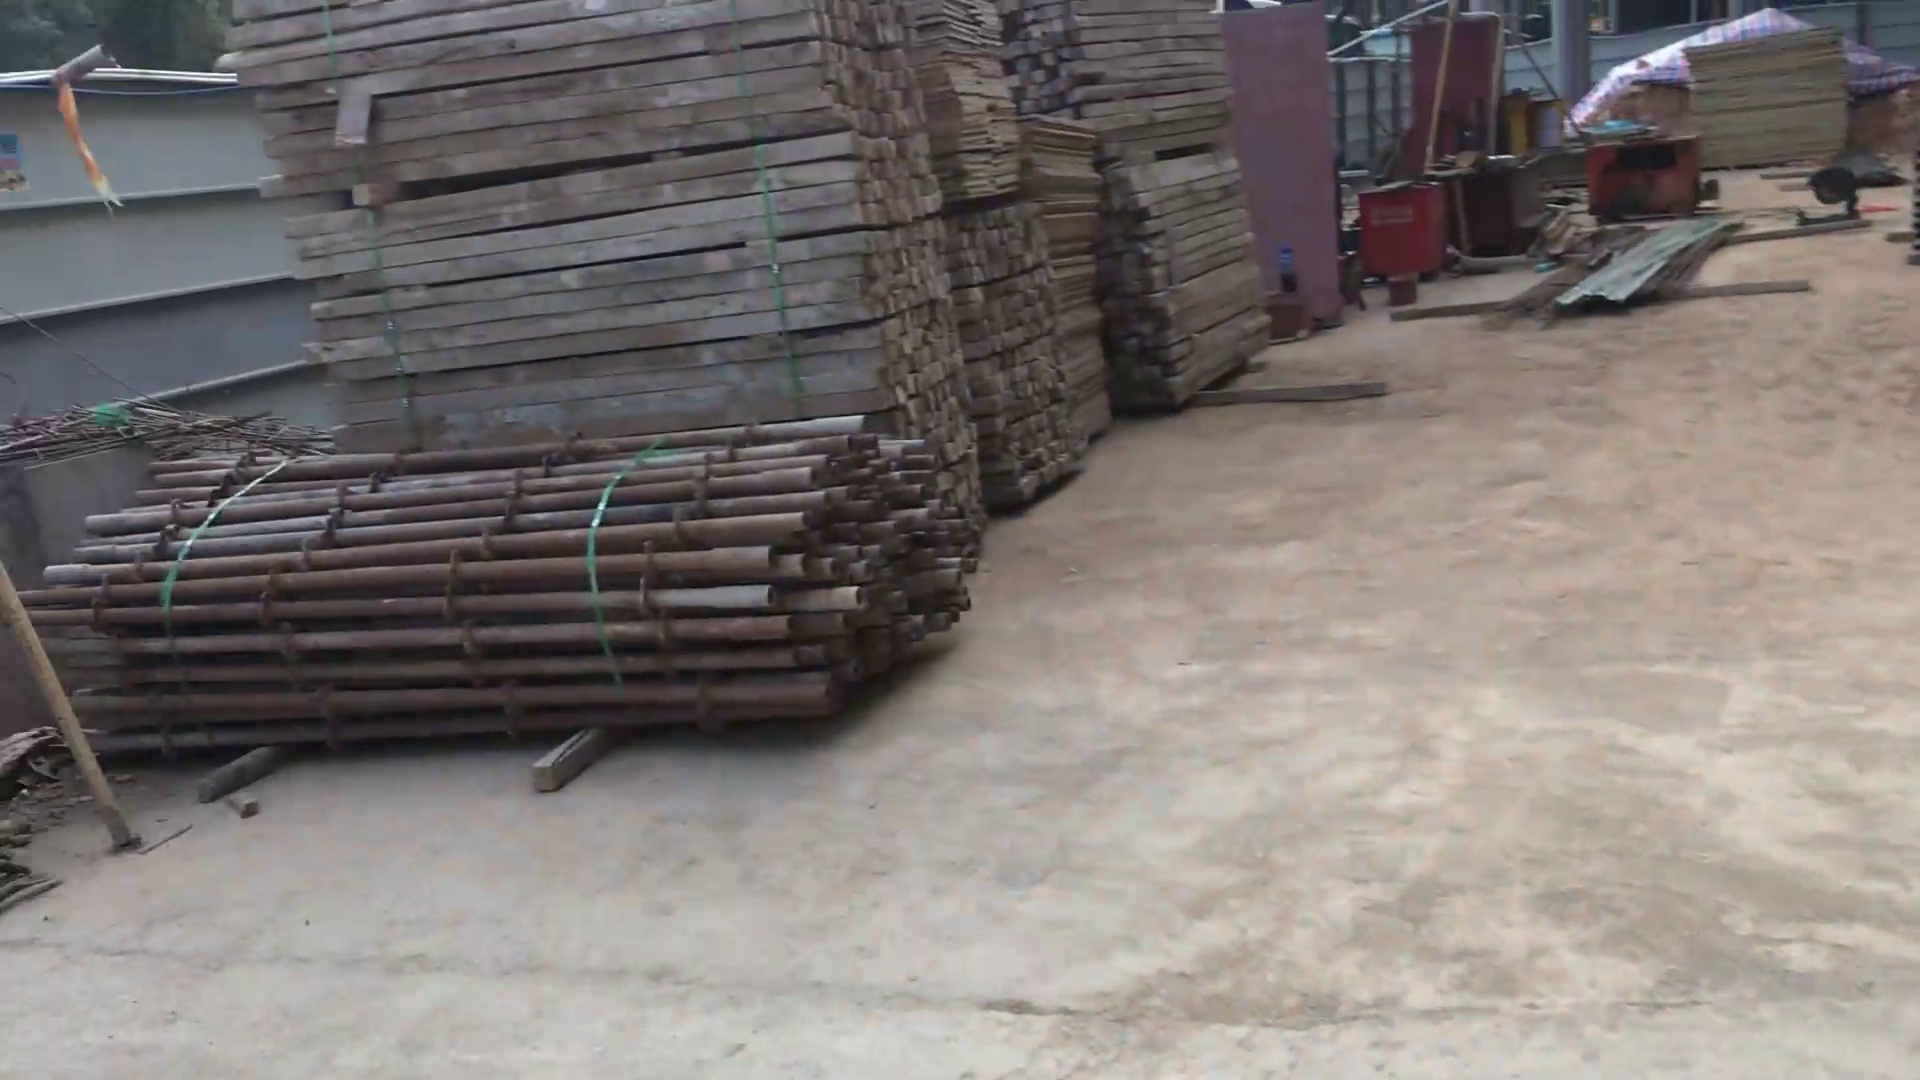board: (1015, 95, 1120, 452), (1672, 21, 1859, 189), (909, 1, 1031, 214)
scaffold: (36, 407, 981, 756)
wood: (218, 1, 993, 559), (1007, 1, 1287, 430), (924, 204, 1100, 517)
